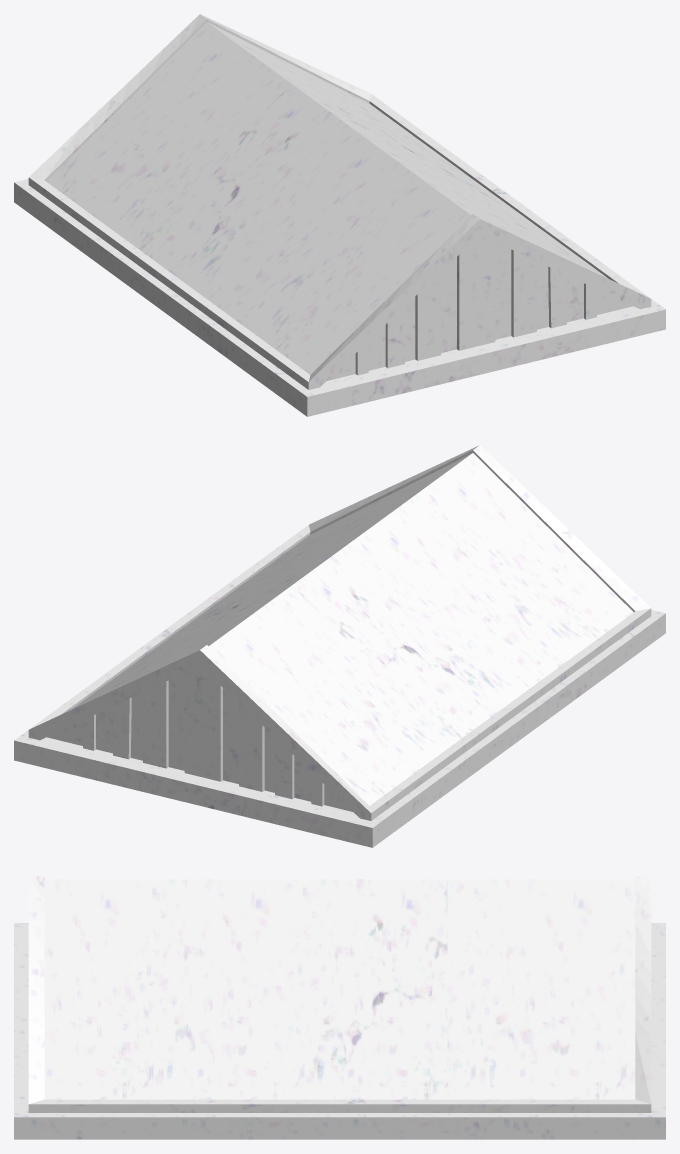
The model's file is roof.fbx.
3 renders of one model, top to bottom at view 1: azimuth 30°, elevation 25°; view 2: azimuth 150°, elevation 25°; view 3: azimuth 270°, elevation 25°, orthographic. The views are drawn at different scales.
Visible parts, largest first — view 1: pCube1; view 2: pCube1; view 3: pCube1.
Boxes of the visible parts, x1,y1,x2,y2 form: pCube1: (14, 14, 665, 416); pCube1: (14, 445, 665, 847); pCube1: (14, 876, 665, 1139).
Bounding box in the file's own units: 19.8 × 7.88 × 28.05.
Materials: 1 (1 with a texture image).
